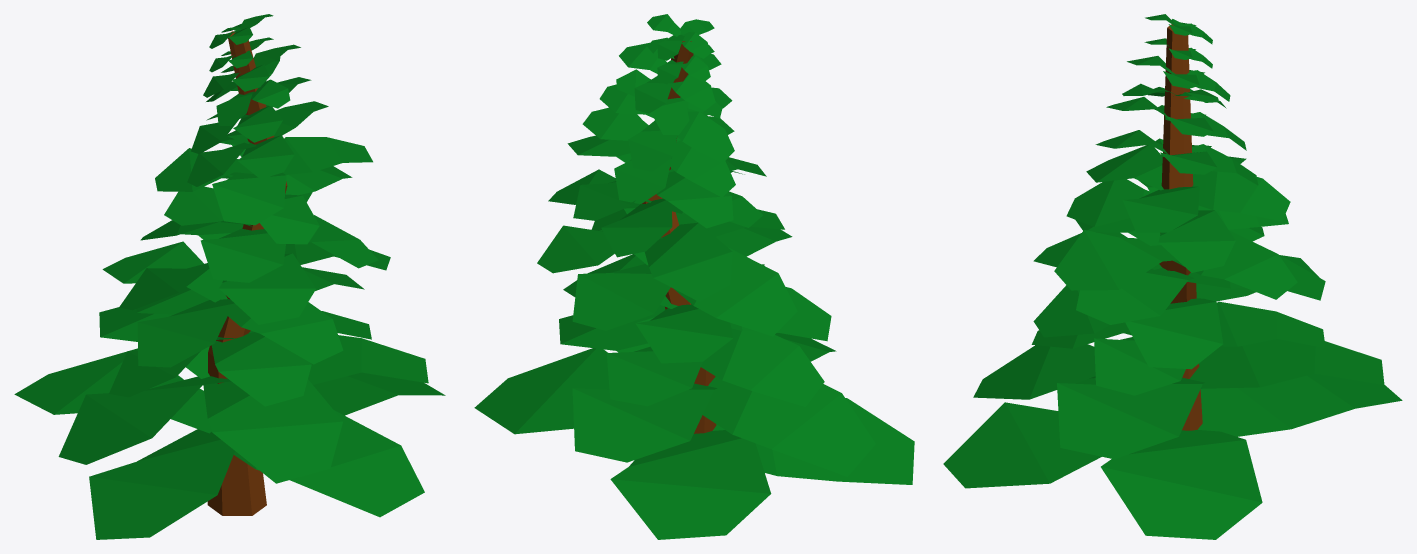
Rendered from tree2.fbx.
3 renders of one model, left to right at view 1: azimuth 30°, elevation 25°; view 2: azimuth 150°, elevation 25°; view 3: azimuth 270°, elevation 25°, orthographic. The views are drawn at different scales.
Parts seen in each view (by area): view 1: Plane.002, Plane.007, Plane.003, Plane.006, Plane.011, Plane.001, Plane.014, Cylinder, Plane.019, Plane.004, Plane.023, Plane.015 (+26 smaller); view 2: Plane.001, Plane.006, Plane.005, Plane, Plane.010, Plane.002, Plane.022, Plane.018, Plane.017, Plane.013, Plane.009, Plane.026 (+24 smaller); view 3: Plane, Plane.004, Plane.003, Plane.001, Plane.005, Plane.012, Plane.020, Plane.007, Cylinder, Plane.016, Plane.008, Plane.009 (+17 smaller).
Boxes of the visible parts, x1,y1,x2,y2 form: Plane.002: (89, 429, 234, 539); Plane.007: (203, 379, 342, 483); Plane.003: (234, 410, 424, 517); Plane.006: (58, 376, 230, 464); Plane.011: (211, 332, 311, 406); Plane.001: (14, 348, 211, 433); Plane.014: (137, 299, 234, 367); Cylinder: (207, 31, 287, 515); Plane.019: (219, 253, 315, 324); Plane.004: (308, 335, 428, 384); Plane.023: (200, 228, 285, 282); Plane.015: (228, 302, 343, 364); Plane.001: (610, 430, 771, 539); Plane.006: (702, 376, 875, 476); Plane.005: (572, 383, 717, 462); Plane: (474, 348, 609, 434); Plane.010: (701, 328, 824, 406); Plane.002: (712, 398, 914, 484); Plane.022: (645, 222, 732, 301); Plane.018: (674, 247, 797, 336); Plane.017: (572, 264, 670, 330); Plane.013: (635, 304, 733, 363); Plane.009: (606, 346, 702, 406); Plane.026: (601, 198, 672, 257); Plane: (1101, 429, 1262, 539); Plane.004: (1057, 377, 1204, 459); Plane.003: (943, 402, 1101, 488); Plane.001: (1198, 373, 1402, 436); Plane.005: (1190, 339, 1384, 388); Plane.012: (1125, 298, 1223, 369); Plane.020: (1054, 230, 1177, 290); Plane.007: (973, 344, 1095, 399); Cylinder: (1159, 24, 1202, 430); Plane.016: (1076, 268, 1194, 324); Plane.008: (1094, 337, 1185, 395); Plane.009: (1217, 301, 1325, 348).
Size of the model in its own units: 1341 by 1655 by 1372.
